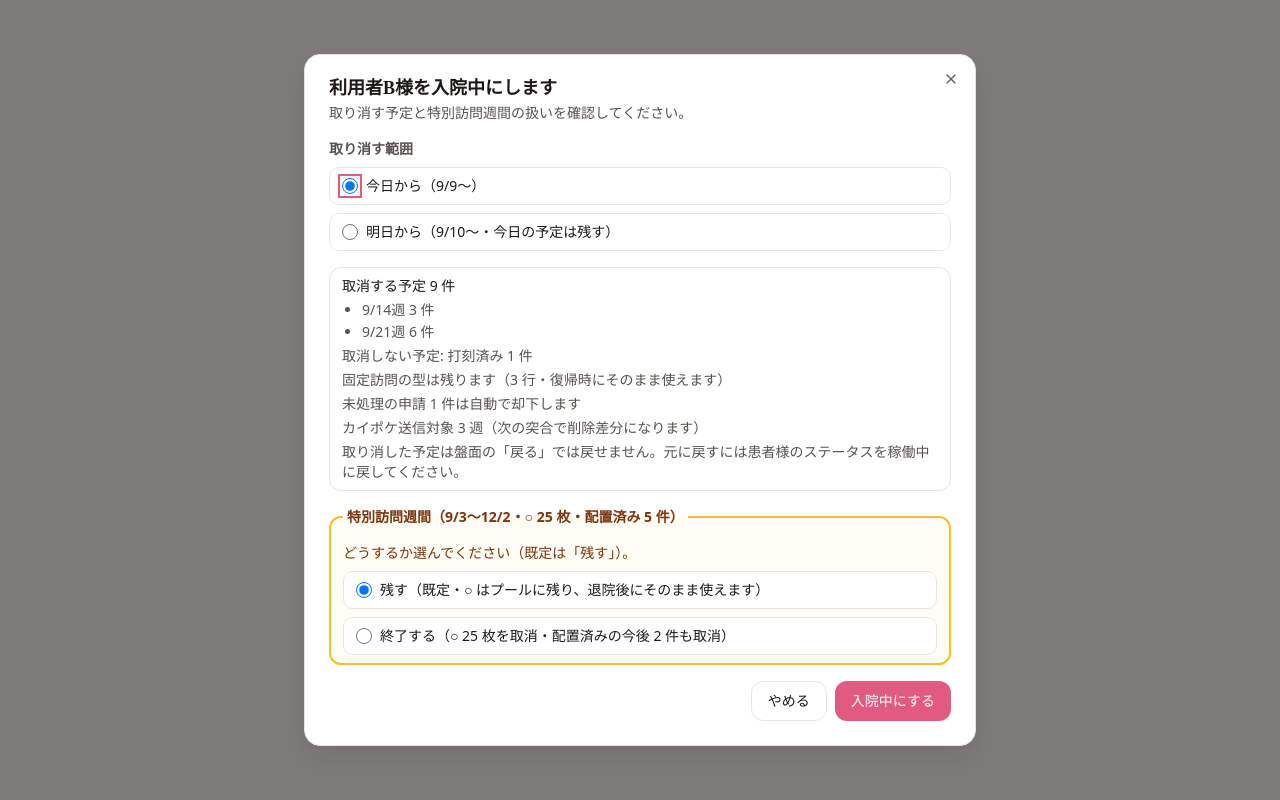
Test: PatientStatusChangeDialog — 非稼働化 (deactivate) › 影響 GET には special_period_action が乗り、ラジオ切替で数え直す
Expected: the text with test id "patient-status-cancel-total" reads "取消する予定 9 件", [342,276,455,295]
Click the radio button with test id "patient-status-special-end" at (364, 636), box [356,628,372,644]
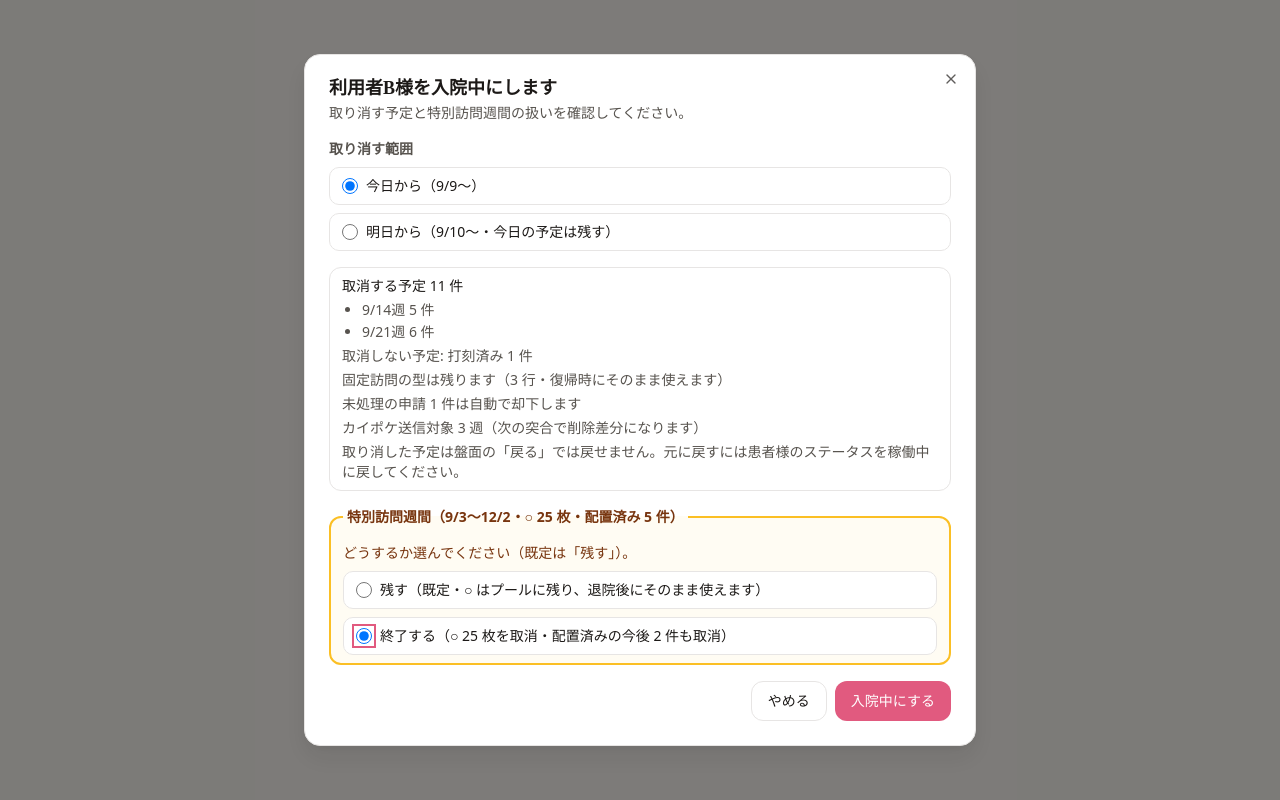
Expected: the element with test id "patient-status-special-period" shows "配置済みの今後 2 件も取消", [329,507,951,665]
Now the text with test id "patient-status-cancel-total" reads "取消する予定 11 件", box [342,276,463,295]
